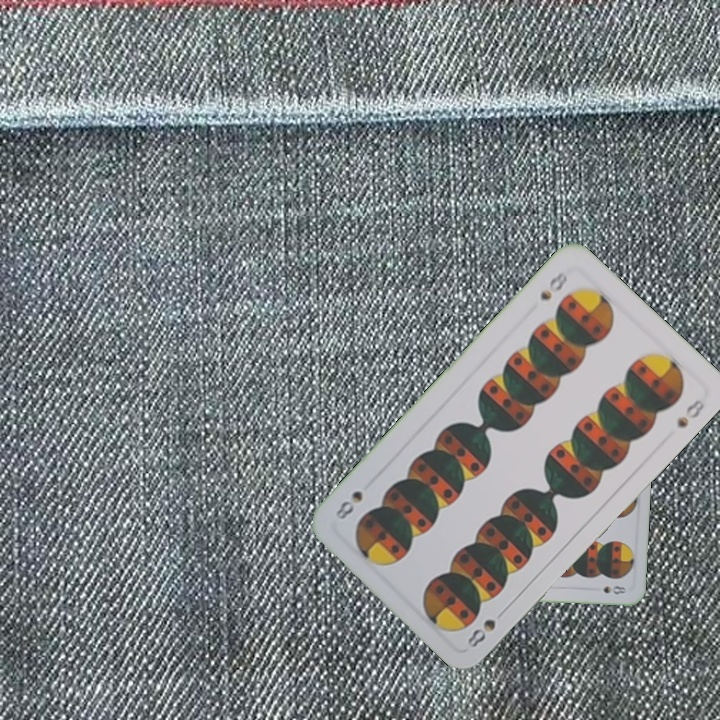S8: (463, 615, 498, 651), (536, 267, 570, 303)
